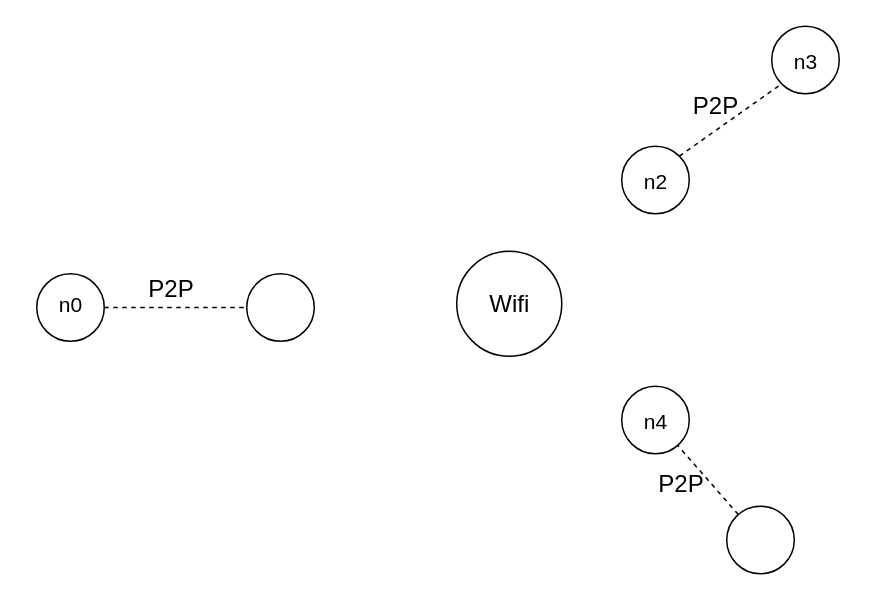
The diagram is 876 pixels wide and 600 high, and some of its shapes have lost their labels. The box of each missing label's shape, as (x1, y1, x2, y2) in pixels:
n1: (245, 272, 314, 341)
n5: (725, 505, 794, 574)
